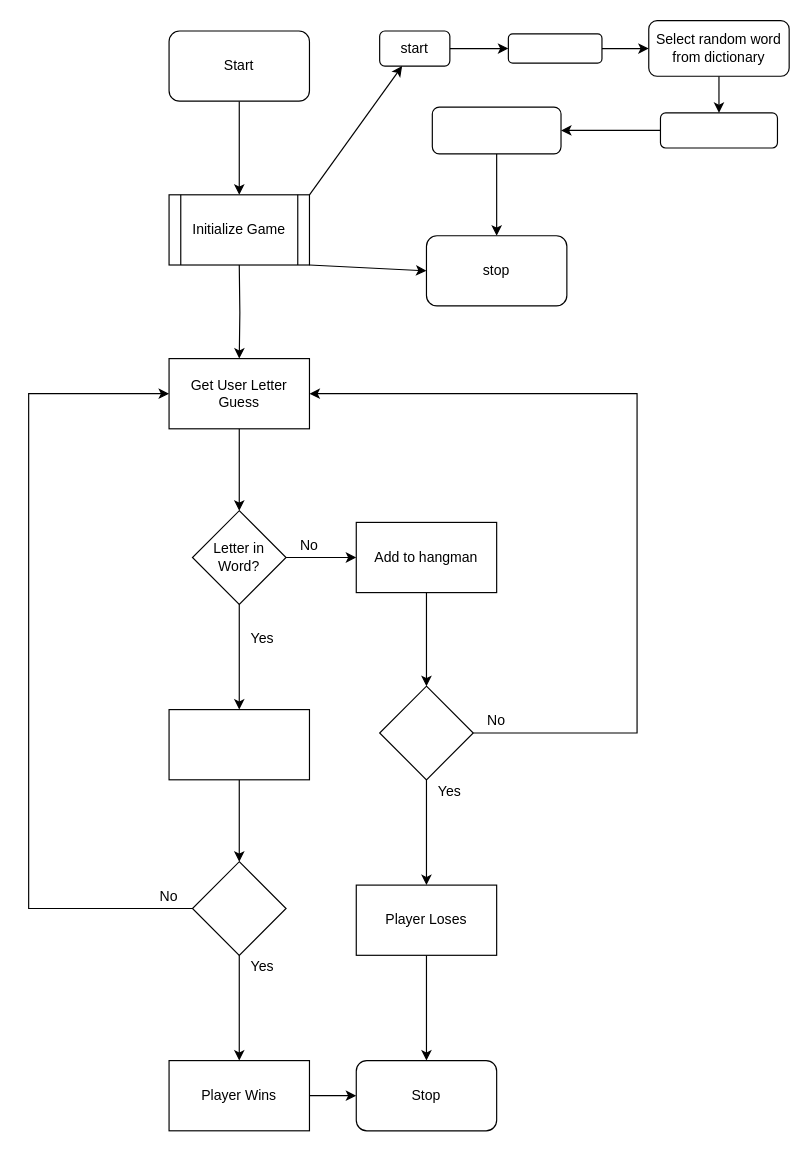
Image size: 810x1151. Some labels were removed from this diagram. The centre of each missing label's shape, as x and y in pixels:
"Get word length" belongs at [718,130].
"Greet player" belongs at [554,48].
"Is Game Over?" belongs at [425,732].
"output word as underscores" belongs at [496,130].
"Replace underscores with correctly guessed letter" belongs at [238,744].
"Word Complete?" belongs at [238,908].
